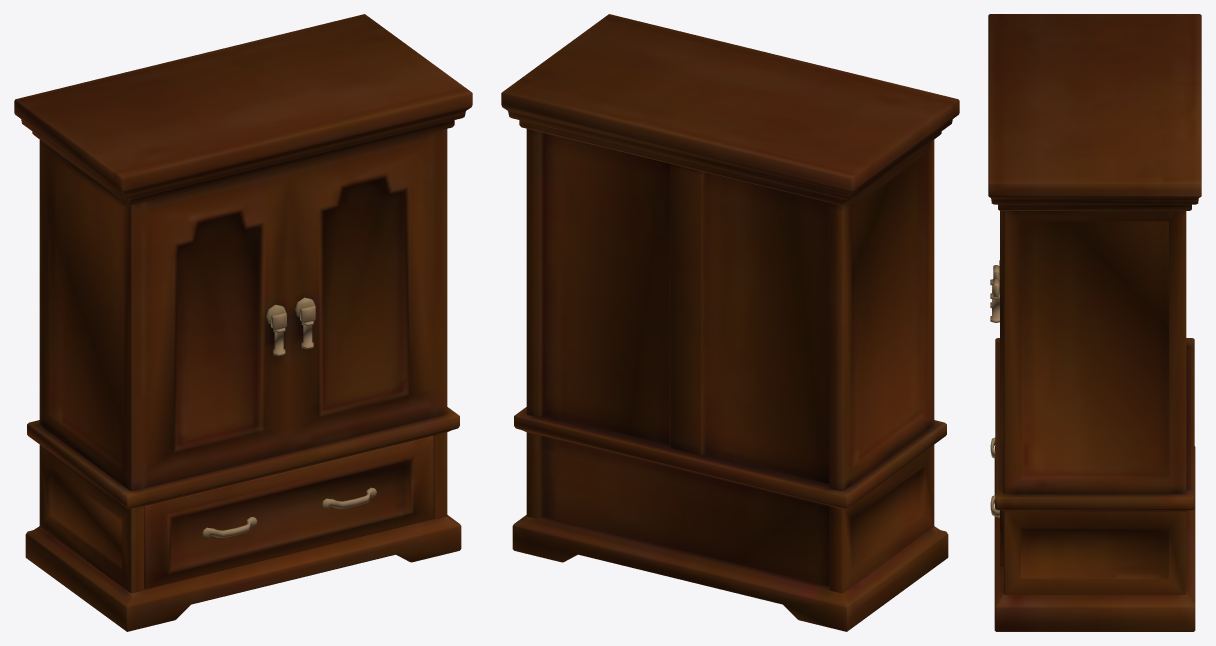
3 renders of one model, left to right at view 1: azimuth 30°, elevation 25°; view 2: azimuth 150°, elevation 25°; view 3: azimuth 270°, elevation 25°, orthographic.
Size of the model in its own units: 18.25 by 22.76 by 9.7.
Materials: 1 (1 with a texture image).
